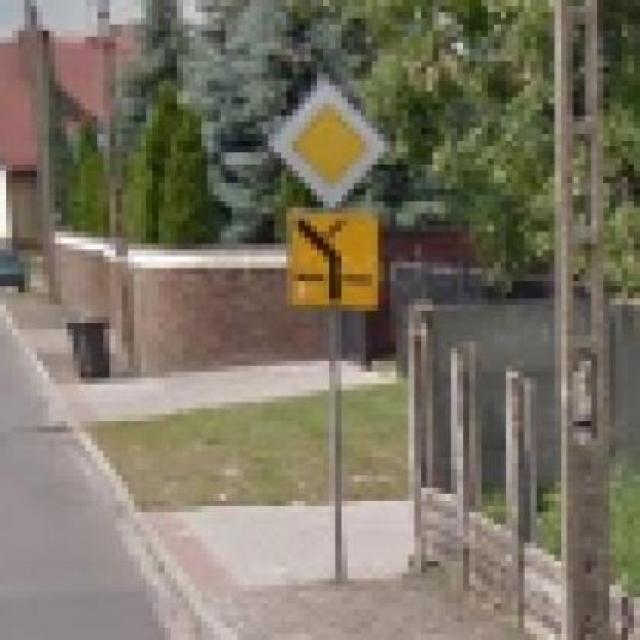Droga z pierwszenstwem: (265, 73, 387, 207)
